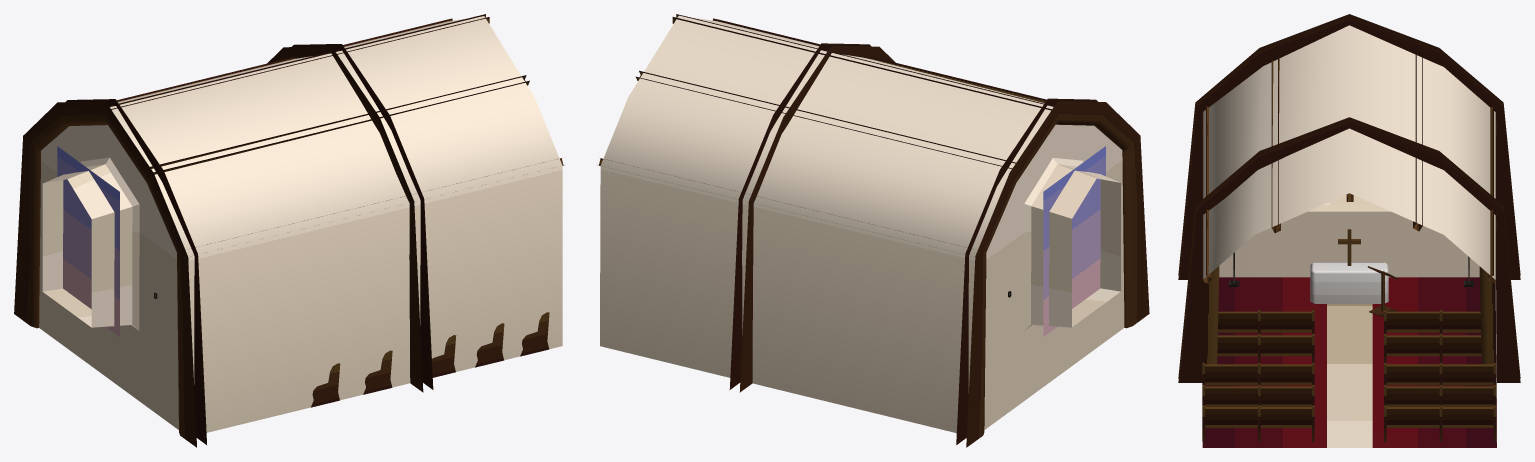
File: ChurchTextured.fbx
3 renders of one model, left to right at view 1: azimuth 30°, elevation 25°; view 2: azimuth 150°, elevation 25°; view 3: azimuth 270°, elevation 25°, orthographic. The views are drawn at different scales.
Visible parts, largest first — view 1: WallsFloor, Pews; view 2: WallsFloor; view 3: WallsFloor, Pews, Extras.
Boxes of the visible parts, x1,y1,x2,y2 form: WallsFloor: (14,14,564,447); Pews: (311,312,549,407); WallsFloor: (597,14,1149,447); WallsFloor: (1178,14,1520,447); Pews: (1202,309,1496,441); Extras: (1229,229,1473,317).
Size of the model in its own units: 496 by 317 by 373.
